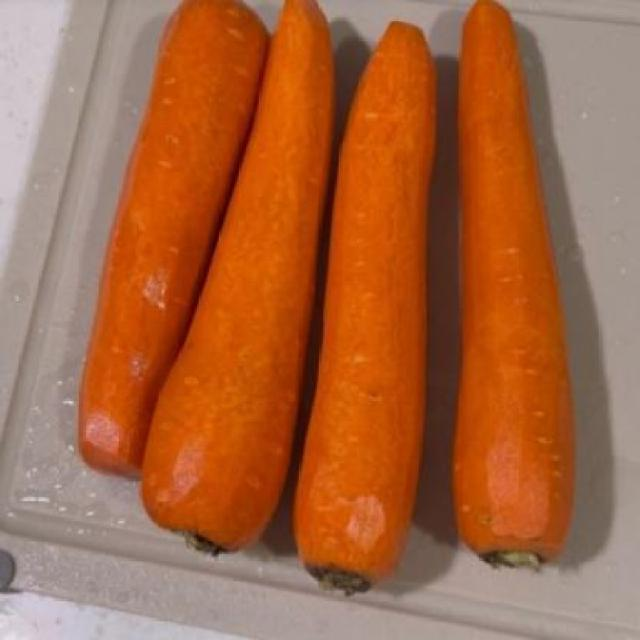carrot: (142, 7, 343, 566), (74, 4, 271, 489), (290, 21, 447, 609), (449, 1, 590, 570)
